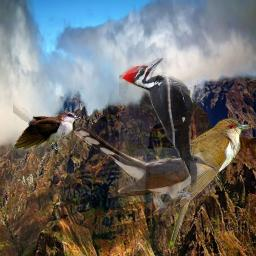Cuckoo: (72, 121, 219, 215), (169, 117, 250, 253), (13, 85, 82, 152)
Woodpecker: (119, 58, 210, 191)
